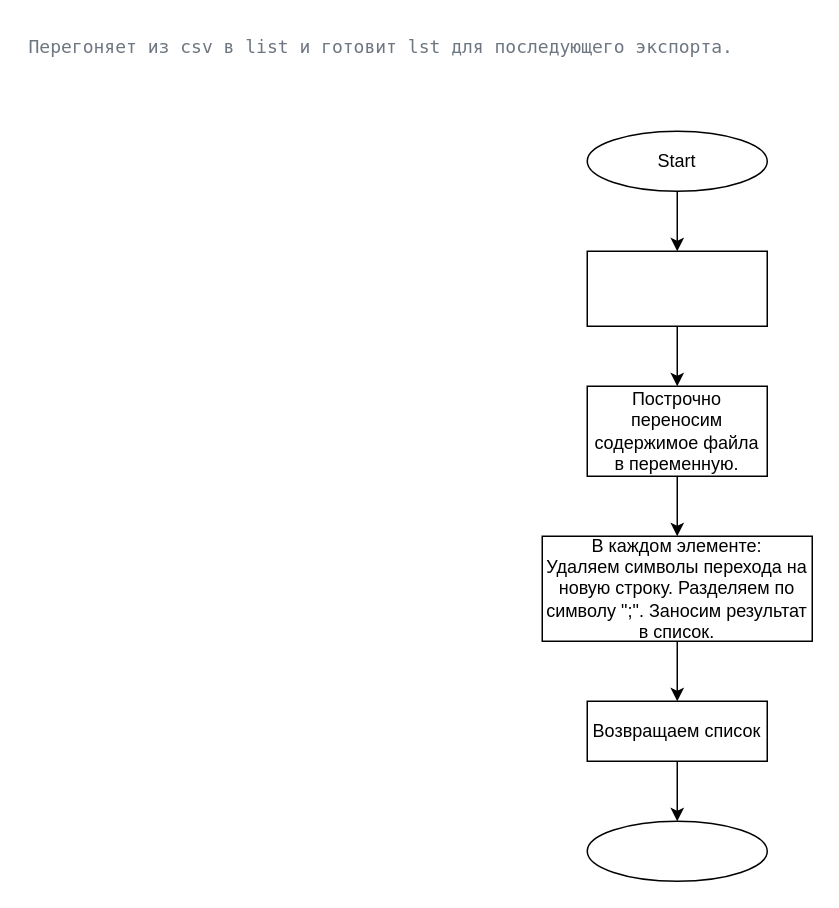
Some shapes in this 839 by 908 pixel diagram are drawn without their labels. Here are the shapes that lost their labels. From the top down, the box of each, then its label:
(586, 250, 767, 326): Открыть файл .csv для чтения в кодировке "UTF-8".
(586, 820, 767, 881): Exit
